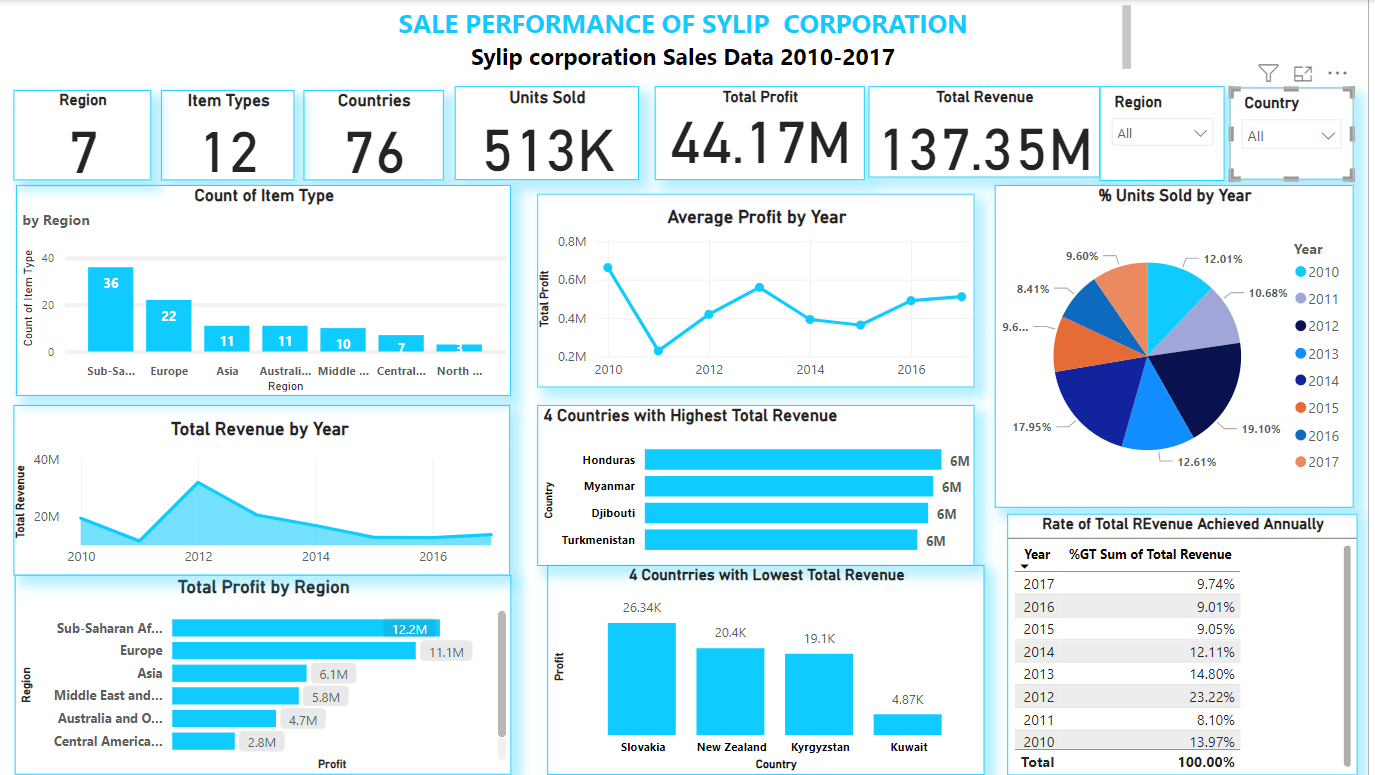

This screenshot's page, from the dashboard's own definition file:
{"tool":"powerbi","page":{"name":"Page 1","canvas":[1280,720],"ordinal":0},"visuals":[{"type":"card","title":"Countries","fields":{"Values":["Count(Sample_Sales Records (2).Country)"]},"box":[290.5,83.7,130.1,83.7],"z":0},{"type":"card","title":"Item Types","fields":{"Values":["Count(Sample_Sales Records (2).Item Type)"]},"box":[158,83.7,124.3,83.7],"z":1000},{"type":"card","title":"Count Of Region","fields":{"Values":["Count(Sample_Sales Records (2).Region)"]},"box":[45.3,242.8,103.4,80.2],"z":2000},{"type":"card","title":"Total Profit","fields":{"Values":["Sum(Sample_Sales Records (2).Total Profit)"]},"box":[617,80.2,195.2,87.1],"z":3000},{"type":"card","title":"Units Sold","fields":{"Values":["Sum(Sample_Sales Records (2).Units Sold)"]},"box":[431.1,80.2,170.8,87.1],"z":4000},{"type":"card","title":"Total Revenue","fields":{"Values":["Sum(Sample_Sales Records (2).Total Revenue)"]},"box":[815.7,95.3,215,84.8],"z":5000},{"type":"slicer","fields":{"Values":["Sample_Sales Records (2).Region"]},"box":[1041.1,94.1,124.3,73.2],"z":6000},{"type":"slicer","fields":{"Values":["Sample_Sales Records (2).Country"]},"box":[1165.4,94.1,115,77.9],"z":7000},{"type":"clusteredBarChart","title":" Total Profit by Region","fields":{"Category":["Sample_Sales Records (2).Region"],"Y":["Sum(Sample_Sales Records (2).Total Profit)"]},"box":[38.3,542.6,443.9,177.8],"z":8000},{"type":"pieChart","title":"% Units Sold by Year","fields":{"Y":["Sum(Sample_Sales Records (2).Units Sold)"],"Category":["Sample_Sales Records (2).Order Date.Variation.Date Hierarchy.Year"]},"box":[947,203.3,333.5,299.8],"z":9000},{"type":"areaChart","title":" Total Revenue by Year","fields":{"Category":["Sample_Sales Records (2).Order Date.Variation.Date Hierarchy.Year"],"Y":["Sum(Sample_Sales Records (2).Total Revenue)"]},"box":[30.2,355.6,461.3,180.1],"z":10000},{"type":"lineChart","title":"Average Profit by Year","fields":{"Y":["Avg(Sample_Sales Records (2).Total Profit)"],"Category":["Sample_Sales Records (2).Order Date.Variation.Date Hierarchy.Year"]},"box":[529.9,180.1,384.6,182.4],"z":11000},{"type":"tableEx","title":"Rate of Total REvenue Achieved Annually","fields":{"Values":["Sample_Sales Records (2).Order Date.Variation.Date Hierarchy.Year","Divide(Sum(Sample_Sales Records (2).Total Revenue), ScopedEval(Sum(Sample_Sales Records (2).Total Revenue), []))"]},"box":[955.1,463.6,325.3,242.8],"z":12000},{"type":"funnel","fields":{"Category":["Sample_Sales Records (2).Region"],"Y":["CountNonNull(Sample_Sales Records (2).Item Type)"]},"box":[20.9,175.5,470.6,180.1],"z":13000},{"type":"clusteredBarChart","title":"4 Countries with Highest Total Revenue","fields":{"Category":["Sample_Sales Records (2).Country"],"Y":["Sum(Sample_Sales Records (2).Total Revenue)"]},"box":[529.9,367.2,384.6,149.9],"z":14000},{"type":"lineClusteredColumnComboChart","title":"4 Countrries with Lowest Total Revenue ","fields":{"Category":["Sample_Sales Records (2).Country"],"Y":["Sum(Sample_Sales Records (2).Total Revenue)"]},"box":[517.1,525.2,406.7,195.2],"z":15000},{"type":"textbox","box":[230.1,0,834.3,69.7],"z":16000},{"type":"card","title":"Region","fields":{"Values":["Count(Sample_Sales Records (2).Region)"]},"box":[20.9,83.7,127.8,83.7],"z":17000}]}

Visuals, with their boxes in screenshot pixels (x1, y1, x2, y2), scaled from the page's 1280x720 canvas onto the 1375x775 screenshot:
"Countries" card: box=[312, 90, 452, 180]
"Item Types" card: box=[170, 90, 303, 180]
"Count Of Region" card: box=[49, 261, 160, 348]
"Total Profit" card: box=[663, 86, 872, 180]
"Units Sold" card: box=[463, 86, 647, 180]
"Total Revenue" card: box=[876, 103, 1107, 194]
slicer - Sample_Sales Records (2).Region: box=[1118, 101, 1252, 180]
slicer - Sample_Sales Records (2).Country: box=[1252, 101, 1374, 185]
" Total Profit by Region" clusteredBarChart: box=[41, 584, 518, 774]
"% Units Sold by Year" pieChart: box=[1017, 219, 1374, 542]
" Total Revenue by Year" areaChart: box=[32, 383, 528, 577]
"Average Profit by Year" lineChart: box=[569, 194, 982, 390]
"Rate of Total REvenue Achieved Annually" tableEx: box=[1026, 499, 1374, 760]
funnel - Sample_Sales Records (2).Region x CountNonNull(Sample_Sales Records (2).Item Type): box=[22, 189, 528, 383]
"4 Countries with Highest Total Revenue" clusteredBarChart: box=[569, 395, 982, 557]
"4 Countrries with Lowest Total Revenue " lineClusteredColumnComboChart: box=[555, 565, 992, 774]
textbox: box=[247, 0, 1143, 75]
"Region" card: box=[22, 90, 160, 180]
